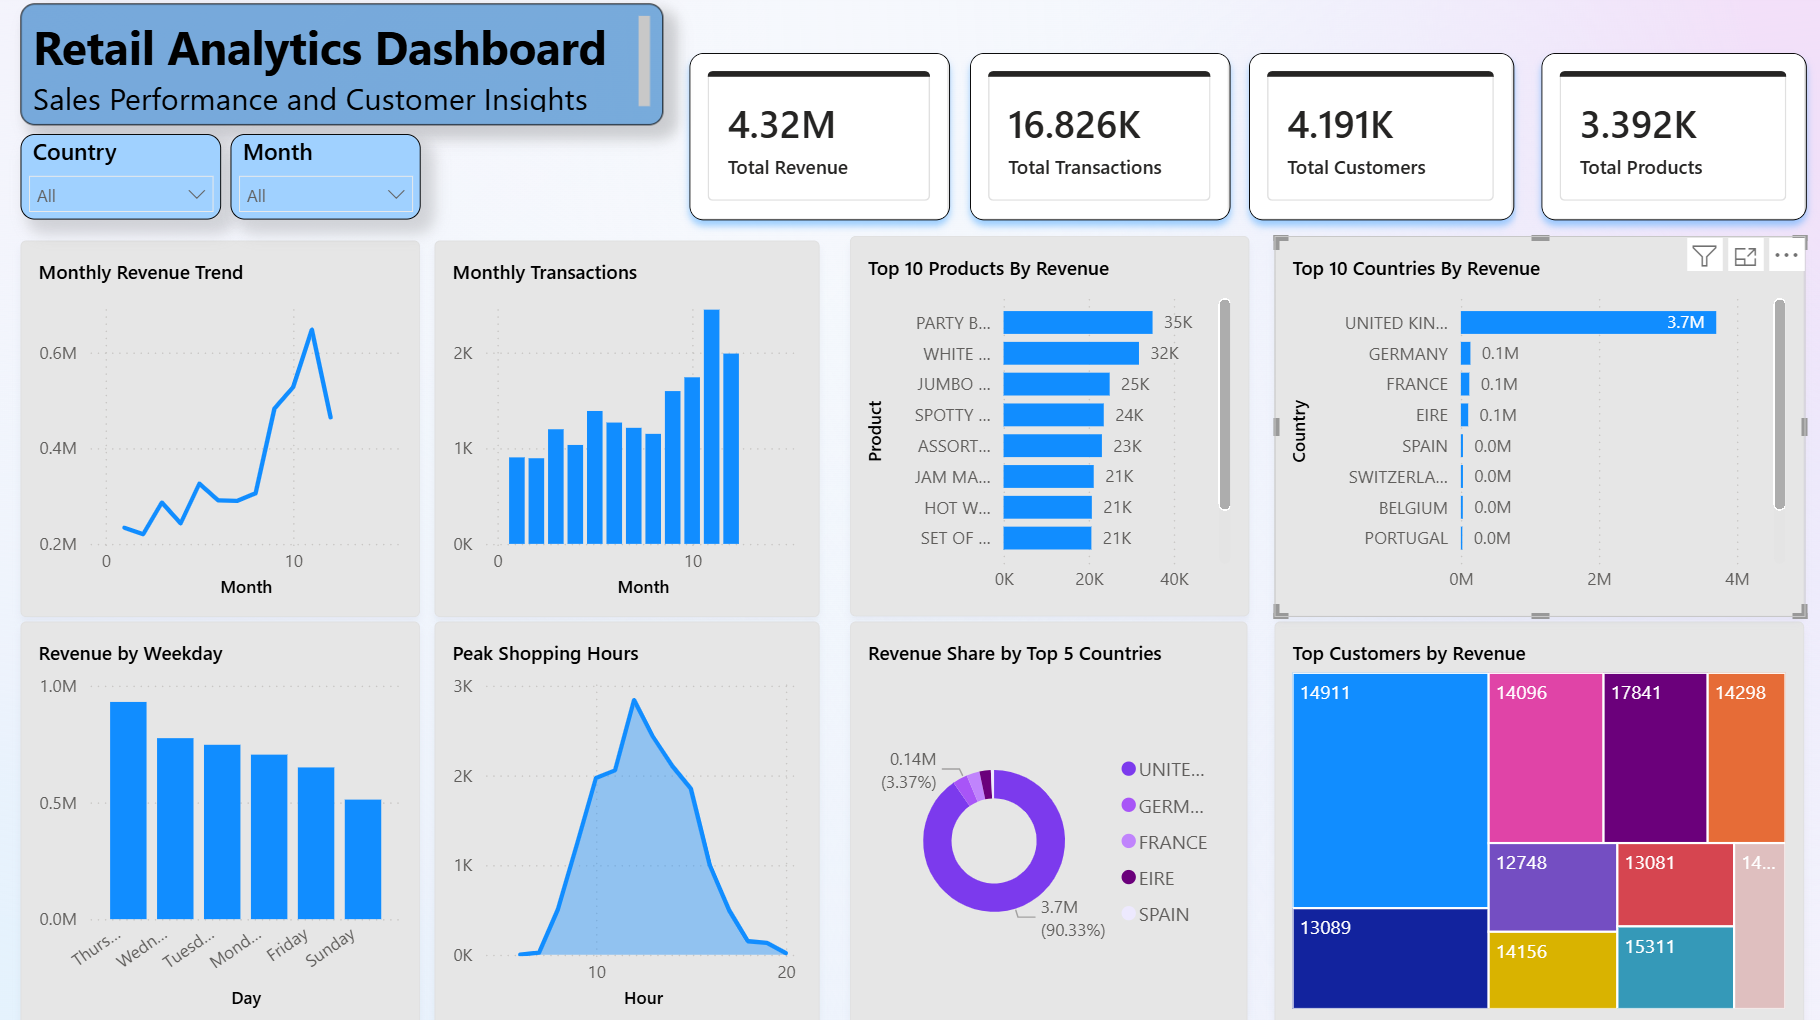

The dashboard page shown, as its layout file describes it:
{"tool":"powerbi","page":{"name":"Retail Analytics Dashboard","canvas":[1280,720],"ordinal":0},"visuals":[{"type":"cardVisual","fields":{"Data":["Sum(final_cleaned_retail_dataset.TotalPrice)"]},"box":[487.2,37.5,182.7,117.1],"z":0},{"type":"cardVisual","fields":{"Data":["Count(final_cleaned_retail_dataset.InvoiceNo)"]},"box":[684,37.5,182.7,117.1],"z":1000},{"type":"cardVisual","fields":{"Data":["Count(final_cleaned_retail_dataset.StockCode)"]},"box":[1083.8,37.5,185.8,117.1],"z":2000},{"type":"cardVisual","fields":{"Data":["Count(final_cleaned_retail_dataset.CustomerID)"]},"box":[879.2,37.5,185.8,117.1],"z":3000},{"type":"lineChart","title":"Monthly Revenue Trend","fields":{"Category":["final_cleaned_retail_dataset.Month"],"Y":["Sum(final_cleaned_retail_dataset.TotalPrice)"]},"box":[18,169.3,280.2,263.7],"z":4000},{"type":"clusteredColumnChart","title":"Monthly Transactions","fields":{"Category":["final_cleaned_retail_dataset.Month"],"Y":["Count(final_cleaned_retail_dataset.InvoiceNo)"]},"box":[308.6,169.3,269.7,263.7],"z":5000},{"type":"clusteredBarChart","title":"Top 10 Products By Revenue","fields":{"Category":["final_cleaned_retail_dataset.Description"],"Y":["Sum(final_cleaned_retail_dataset.TotalPrice)"]},"box":[599.3,166.3,280.2,266.7],"z":6000},{"type":"clusteredBarChart","title":"Top 10 Countries By Revenue","fields":{"Category":["final_cleaned_retail_dataset.Country"],"Y":["Sum(final_cleaned_retail_dataset.TotalPrice)"]},"box":[897.5,166.3,371.6,266.7],"z":7000},{"type":"clusteredColumnChart","title":"Revenue by Weekday","fields":{"Category":["final_cleaned_retail_dataset.DayName"],"Y":["Sum(final_cleaned_retail_dataset.TotalPrice)"]},"box":[18,436,280.2,284.7],"z":8000},{"type":"areaChart","title":"Peak Shopping Hours","fields":{"Category":["final_cleaned_retail_dataset.Hour"],"Y":["Count(final_cleaned_retail_dataset.InvoiceNo)"]},"box":[308.6,436,269.7,284.7],"z":9000},{"type":"donutChart","title":"Revenue Share by Top 5 Countries","fields":{"Category":["final_cleaned_retail_dataset.Country"],"Y":["Sum(final_cleaned_retail_dataset.TotalPrice)"]},"box":[599.3,436,278.7,284.7],"z":10000},{"type":"treemap","title":"Top Customers by Revenue","fields":{"Group":["final_cleaned_retail_dataset.CustomerID"],"Values":["Sum(final_cleaned_retail_dataset.TotalPrice)"]},"box":[897.5,436,371.6,284.7],"z":11000},{"type":"textbox","box":[18,3,451,85.4],"z":12000},{"type":"slicer","fields":{"Values":["final_cleaned_retail_dataset.Country"]},"box":[18,94.4,140.8,52.4],"z":13000},{"type":"slicer","fields":{"Values":["final_cleaned_retail_dataset.Month"]},"box":[164.8,94.4,133.3,52.4],"z":14000}]}

Visuals, with their boxes in screenshot pixels (x1, y1, x2, y2), scaled from the page's 1280x720 canvas onto the 1820x1020 screenshot:
cardVisual - Sum(final_cleaned_retail_dataset.TotalPrice): bbox(693, 53, 953, 219)
cardVisual - Count(final_cleaned_retail_dataset.InvoiceNo): bbox(973, 53, 1232, 219)
cardVisual - Count(final_cleaned_retail_dataset.StockCode): bbox(1541, 53, 1805, 219)
cardVisual - Count(final_cleaned_retail_dataset.CustomerID): bbox(1250, 53, 1514, 219)
"Monthly Revenue Trend" lineChart: bbox(26, 240, 424, 613)
"Monthly Transactions" clusteredColumnChart: bbox(439, 240, 822, 613)
"Top 10 Products By Revenue" clusteredBarChart: bbox(852, 236, 1251, 613)
"Top 10 Countries By Revenue" clusteredBarChart: bbox(1276, 236, 1805, 613)
"Revenue by Weekday" clusteredColumnChart: bbox(26, 618, 424, 1019)
"Peak Shopping Hours" areaChart: bbox(439, 618, 822, 1019)
"Revenue Share by Top 5 Countries" donutChart: bbox(852, 618, 1248, 1019)
"Top Customers by Revenue" treemap: bbox(1276, 618, 1805, 1019)
textbox: bbox(26, 4, 667, 125)
slicer - final_cleaned_retail_dataset.Country: bbox(26, 134, 226, 208)
slicer - final_cleaned_retail_dataset.Month: bbox(234, 134, 424, 208)
